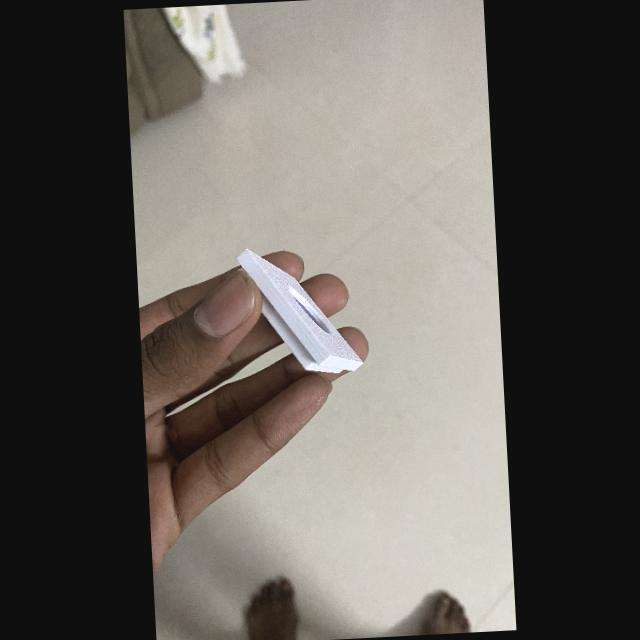RASPBERY PI CAM ENCLOSURE: (238, 250, 362, 373)
